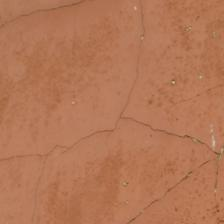Crack: (73, 23, 149, 133), (0, 66, 63, 158), (7, 62, 98, 102), (135, 35, 161, 104), (96, 52, 124, 95)
